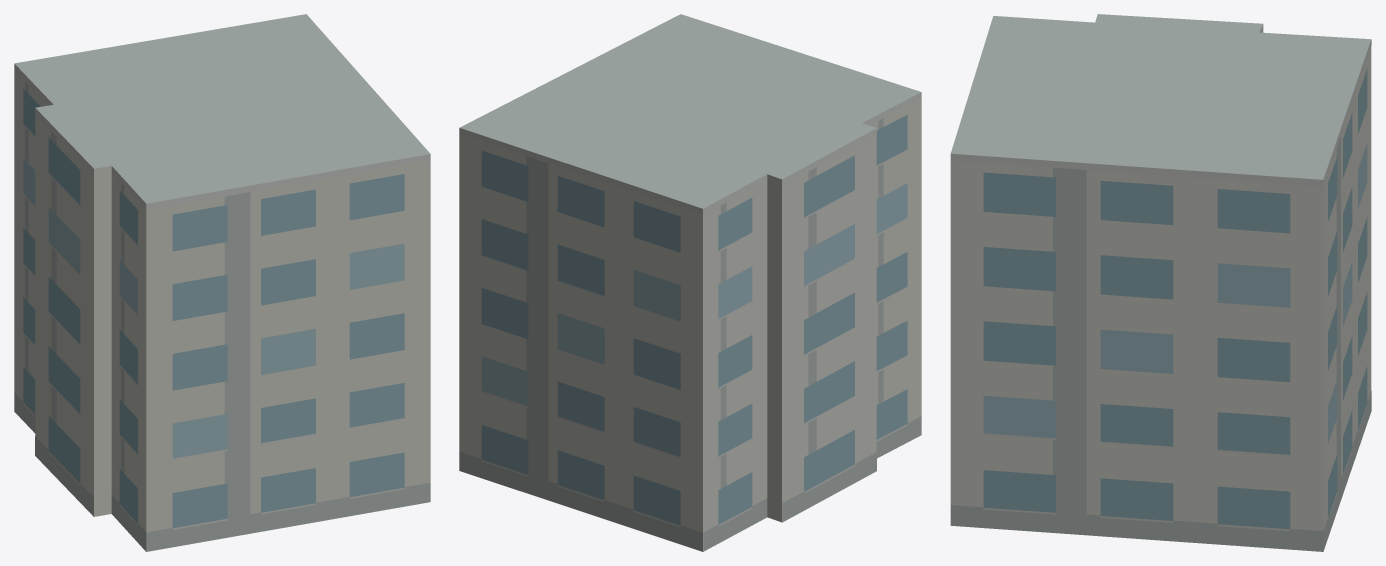
File: survey-upis-32965141.glb
3 renders of one model, left to right at view 1: azimuth 30°, elevation 25°; view 2: azimuth 150°, elevation 25°; view 3: azimuth 270°, elevation 25°, orthographic. The views are drawn at different scales.
Visible parts, largest first — view 1: survey-upis-32965141.tmp; view 2: survey-upis-32965141.tmp; view 3: survey-upis-32965141.tmp.
Boxes of the visible parts, x1=… form: survey-upis-32965141.tmp: x1=14, y1=14, x2=430, y2=551; survey-upis-32965141.tmp: x1=459, y1=14, x2=921, y2=551; survey-upis-32965141.tmp: x1=950, y1=14, x2=1371, y2=551.
Size of the model in its own units: 12.68 by 13.25 by 13.59.
